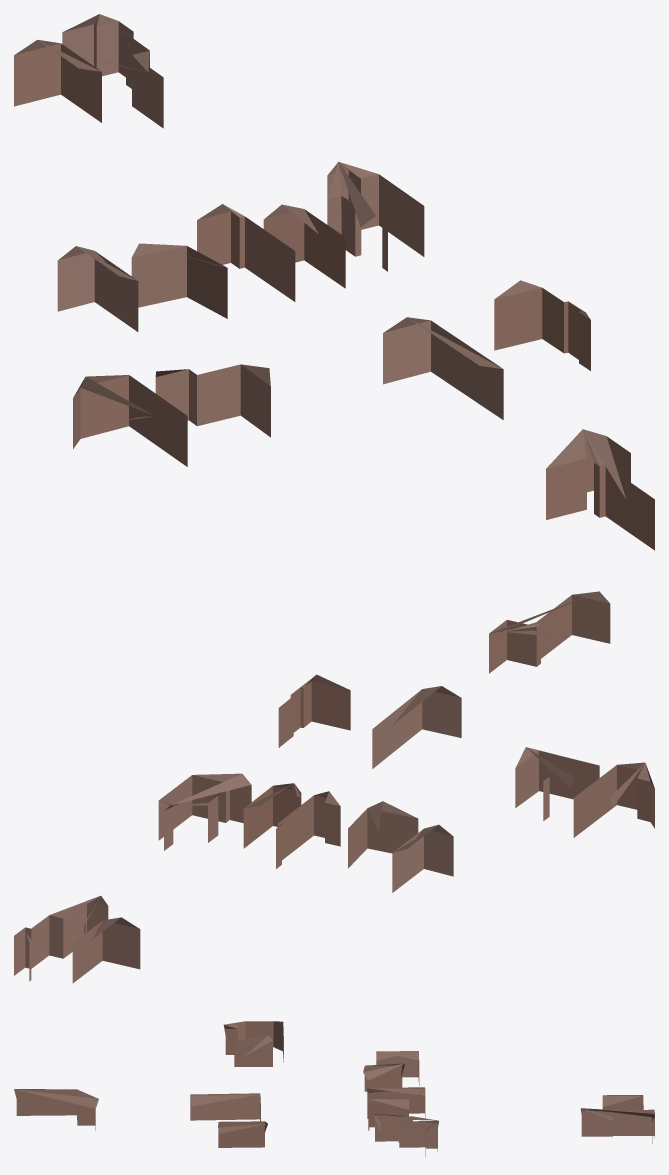
File: c_1635_17834_buildings_residential.glb
3 renders of one model, top to bottom at view 1: azimuth 30°, elevation 25°; view 2: azimuth 150°, elevation 25°; view 3: azimuth 270°, elevation 25°, orthographic. The views are drawn at different scales.
Visible parts, largest first — view 1: geometry_0; view 2: geometry_0; view 3: geometry_0.
Boxes of the visible parts, box(x1,y1,x2,y2) form: geometry_0: box(14, 14, 654, 550); geometry_0: box(14, 591, 654, 983); geometry_0: box(14, 1021, 654, 1157).
Size of the model in its own units: 85.65 by 11.5 by 200.
